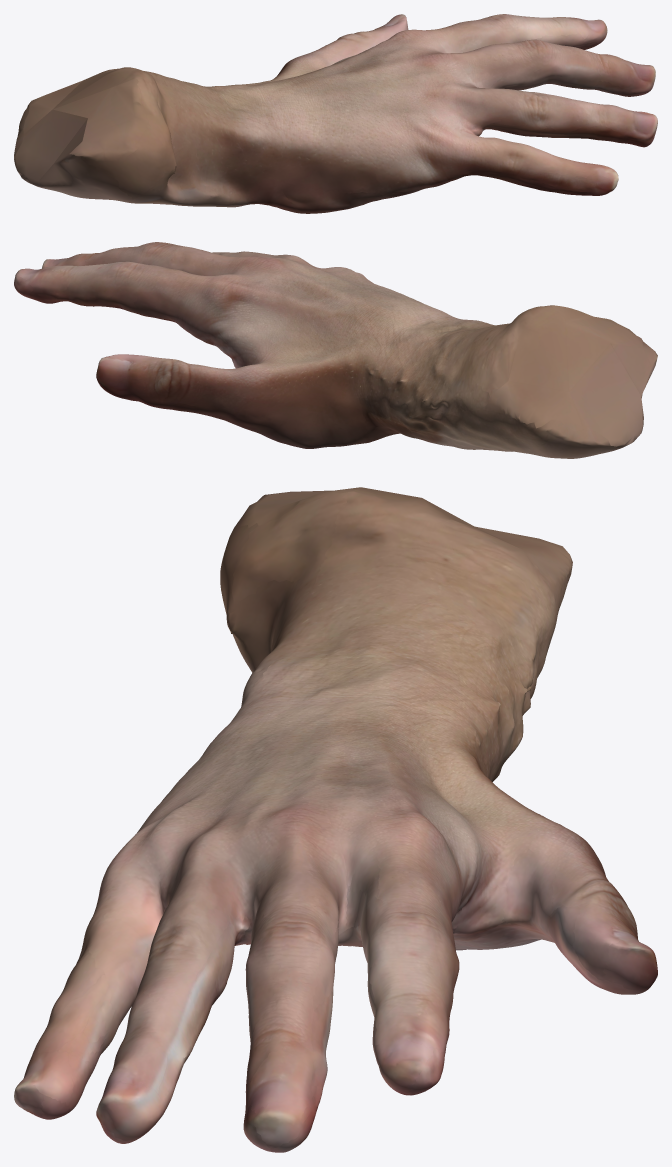
Rendered from HighPolyHand2.fbx.
The picture shows the model from 3 angles, top to bottom: view 1: azimuth 30°, elevation 25°; view 2: azimuth 150°, elevation 25°; view 3: azimuth 270°, elevation 25°; orthographic projection. The views are drawn at different scales.
Visible parts, largest first — view 1: HandScan1; view 2: HandScan1; view 3: HandScan1.
Part boxes in pixels (x1,y1,x2,y2): HandScan1: (14, 14, 657, 213); HandScan1: (14, 242, 657, 458); HandScan1: (14, 487, 657, 1152).
Bounding box in the file's own units: 18.1 × 4.57 × 9.19.
Materials: 1 (1 with a texture image).
